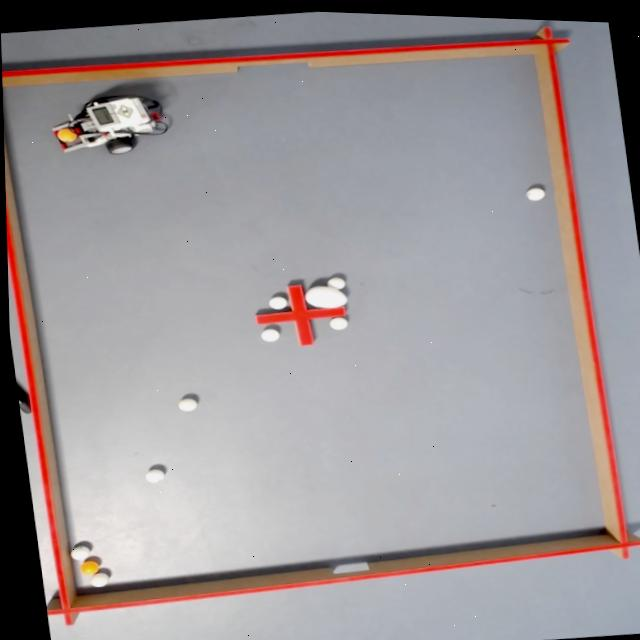boundaries: (2, 19, 640, 627), (2, 49, 602, 593)
cross: (249, 279, 345, 343)
egg: (301, 280, 346, 307)
large_goal: (229, 45, 319, 73)
orange_ball: (74, 557, 96, 574), (56, 125, 77, 141)
robot: (44, 85, 170, 161)
small_goal: (320, 552, 372, 580)
white_ball: (139, 465, 163, 482), (85, 570, 106, 587), (256, 324, 278, 340), (265, 291, 285, 308), (523, 182, 545, 197), (66, 543, 86, 559), (175, 395, 196, 410), (327, 312, 347, 327), (323, 273, 344, 287)
